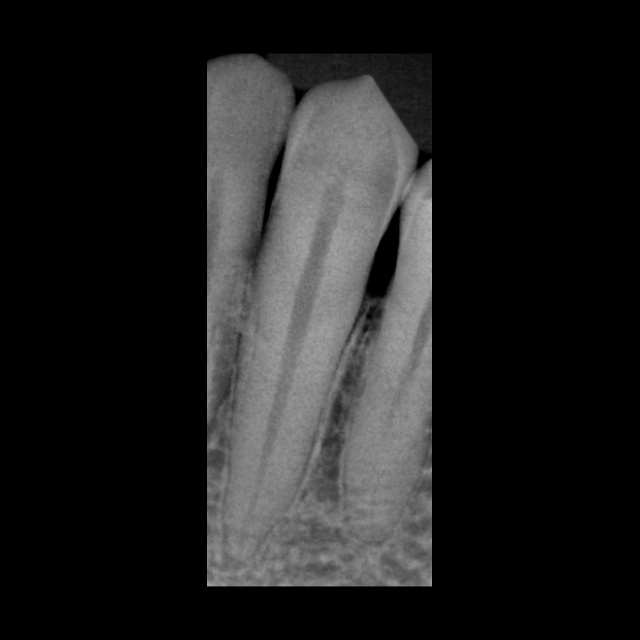tooth: (226, 81, 412, 555)
